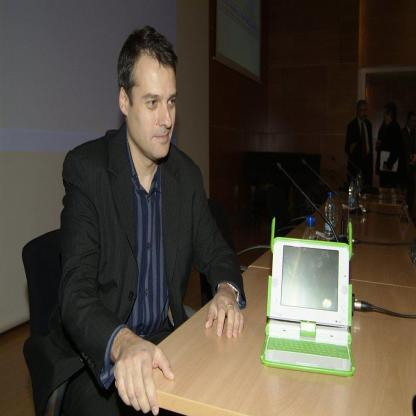board: (268, 233, 356, 372), (325, 191, 336, 242), (302, 215, 318, 241), (348, 177, 357, 208)
